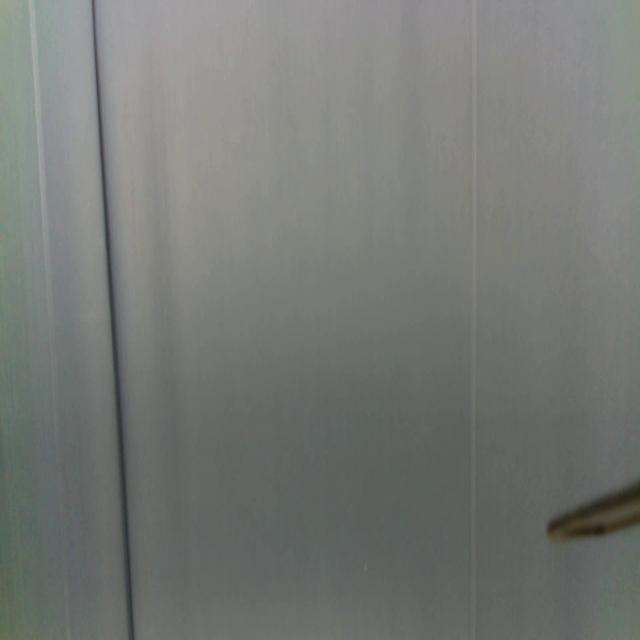crease: (91, 1, 136, 640), (27, 1, 71, 640), (468, 1, 480, 640)
